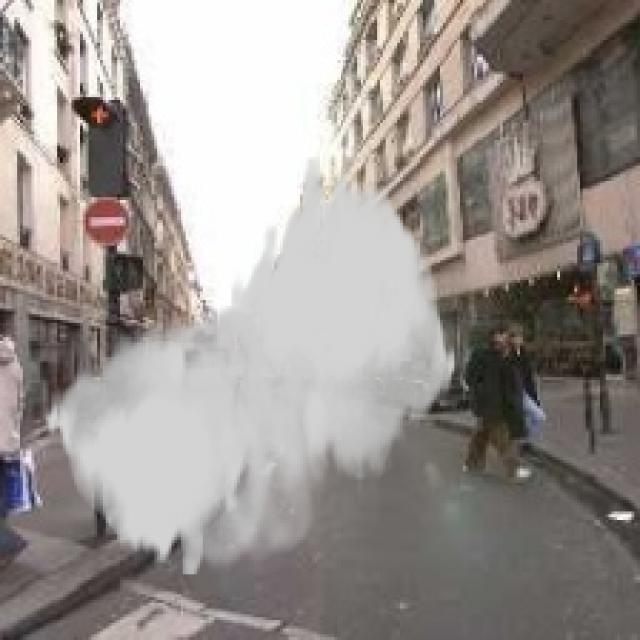Smoke: (42, 157, 458, 577)
